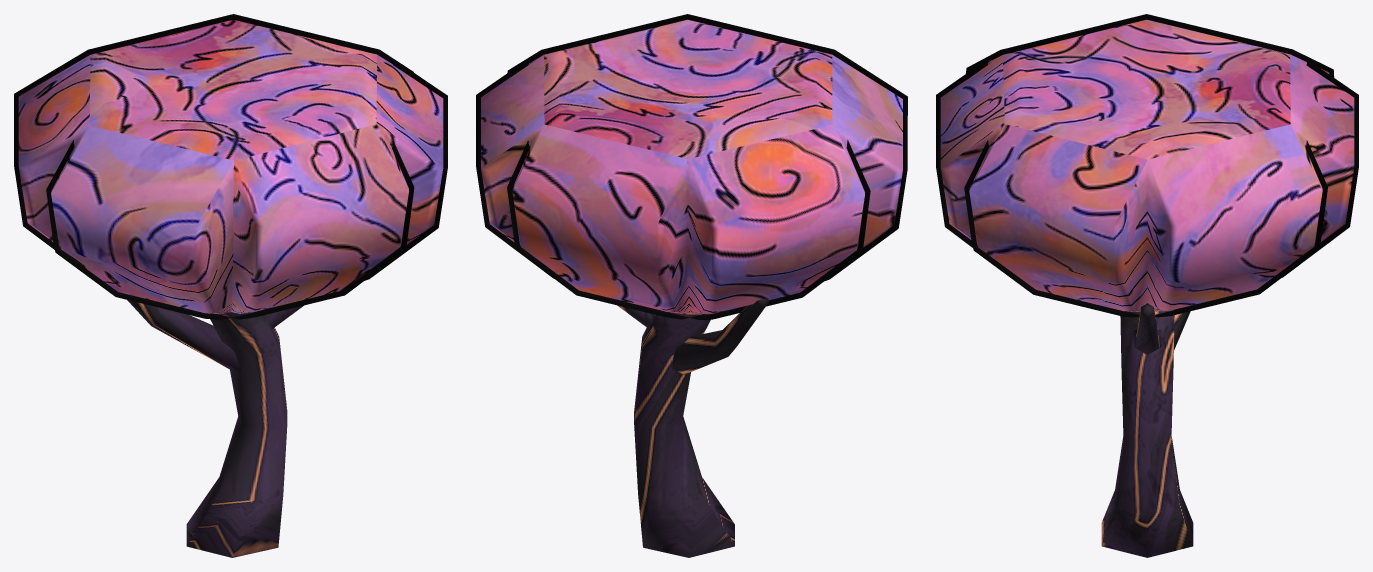
File: s0_Tree_03__1__01.glb
3 renders of one model, left to right at view 1: azimuth 30°, elevation 25°; view 2: azimuth 150°, elevation 25°; view 3: azimuth 270°, elevation 25°, orthographic.
Parts seen in each view (by area): view 1: node_Tree_03 (1); view 2: node_Tree_03 (1); view 3: node_Tree_03 (1).
Boxes of the visible parts, left/top/right/bottom form: node_Tree_03 (1): left=14, top=14, right=447, bottom=557; node_Tree_03 (1): left=476, top=14, right=907, bottom=557; node_Tree_03 (1): left=936, top=14, right=1358, bottom=557.
Size of what is drawn, in the model's own units: 2.52 by 2.76 by 2.31.
3 materials, 2 textured.
